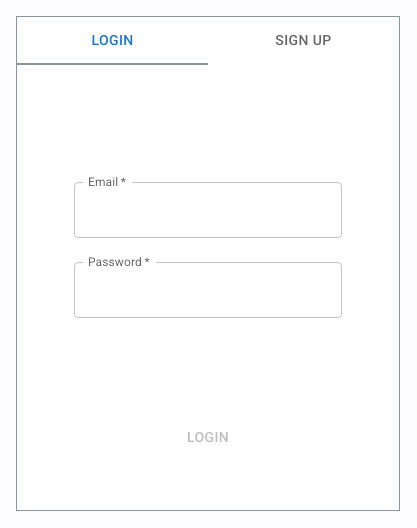
Test: LoginPage › disables submit until the login form is valid
This screenshot has width=417, height=528.
Expected: the button "Login" is disabled, [176,419,240,456]
In the field labelled "Email *": (208, 210) [74,182,342,238], type "a@b.com"
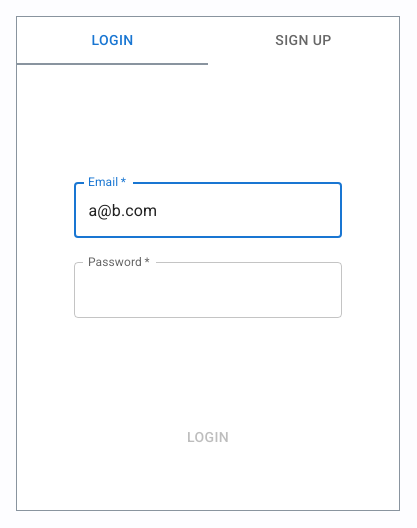
In the password field labelled "Password *": (208, 290) [74,262,342,318], type "longenough"
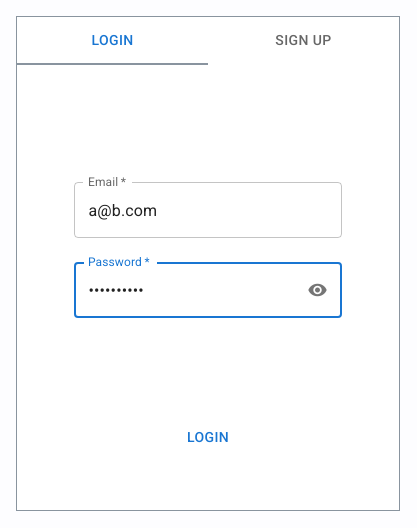
Now the button "Login" is enabled, box [176,419,240,456]
